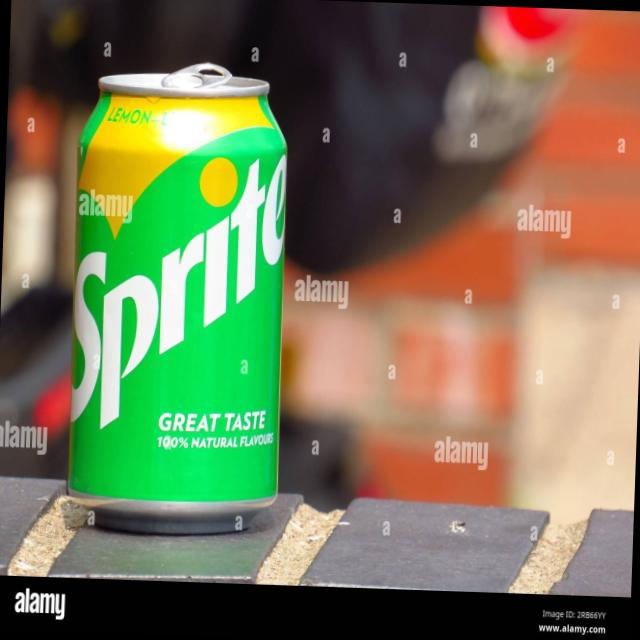sprite: (54, 62, 304, 524)
